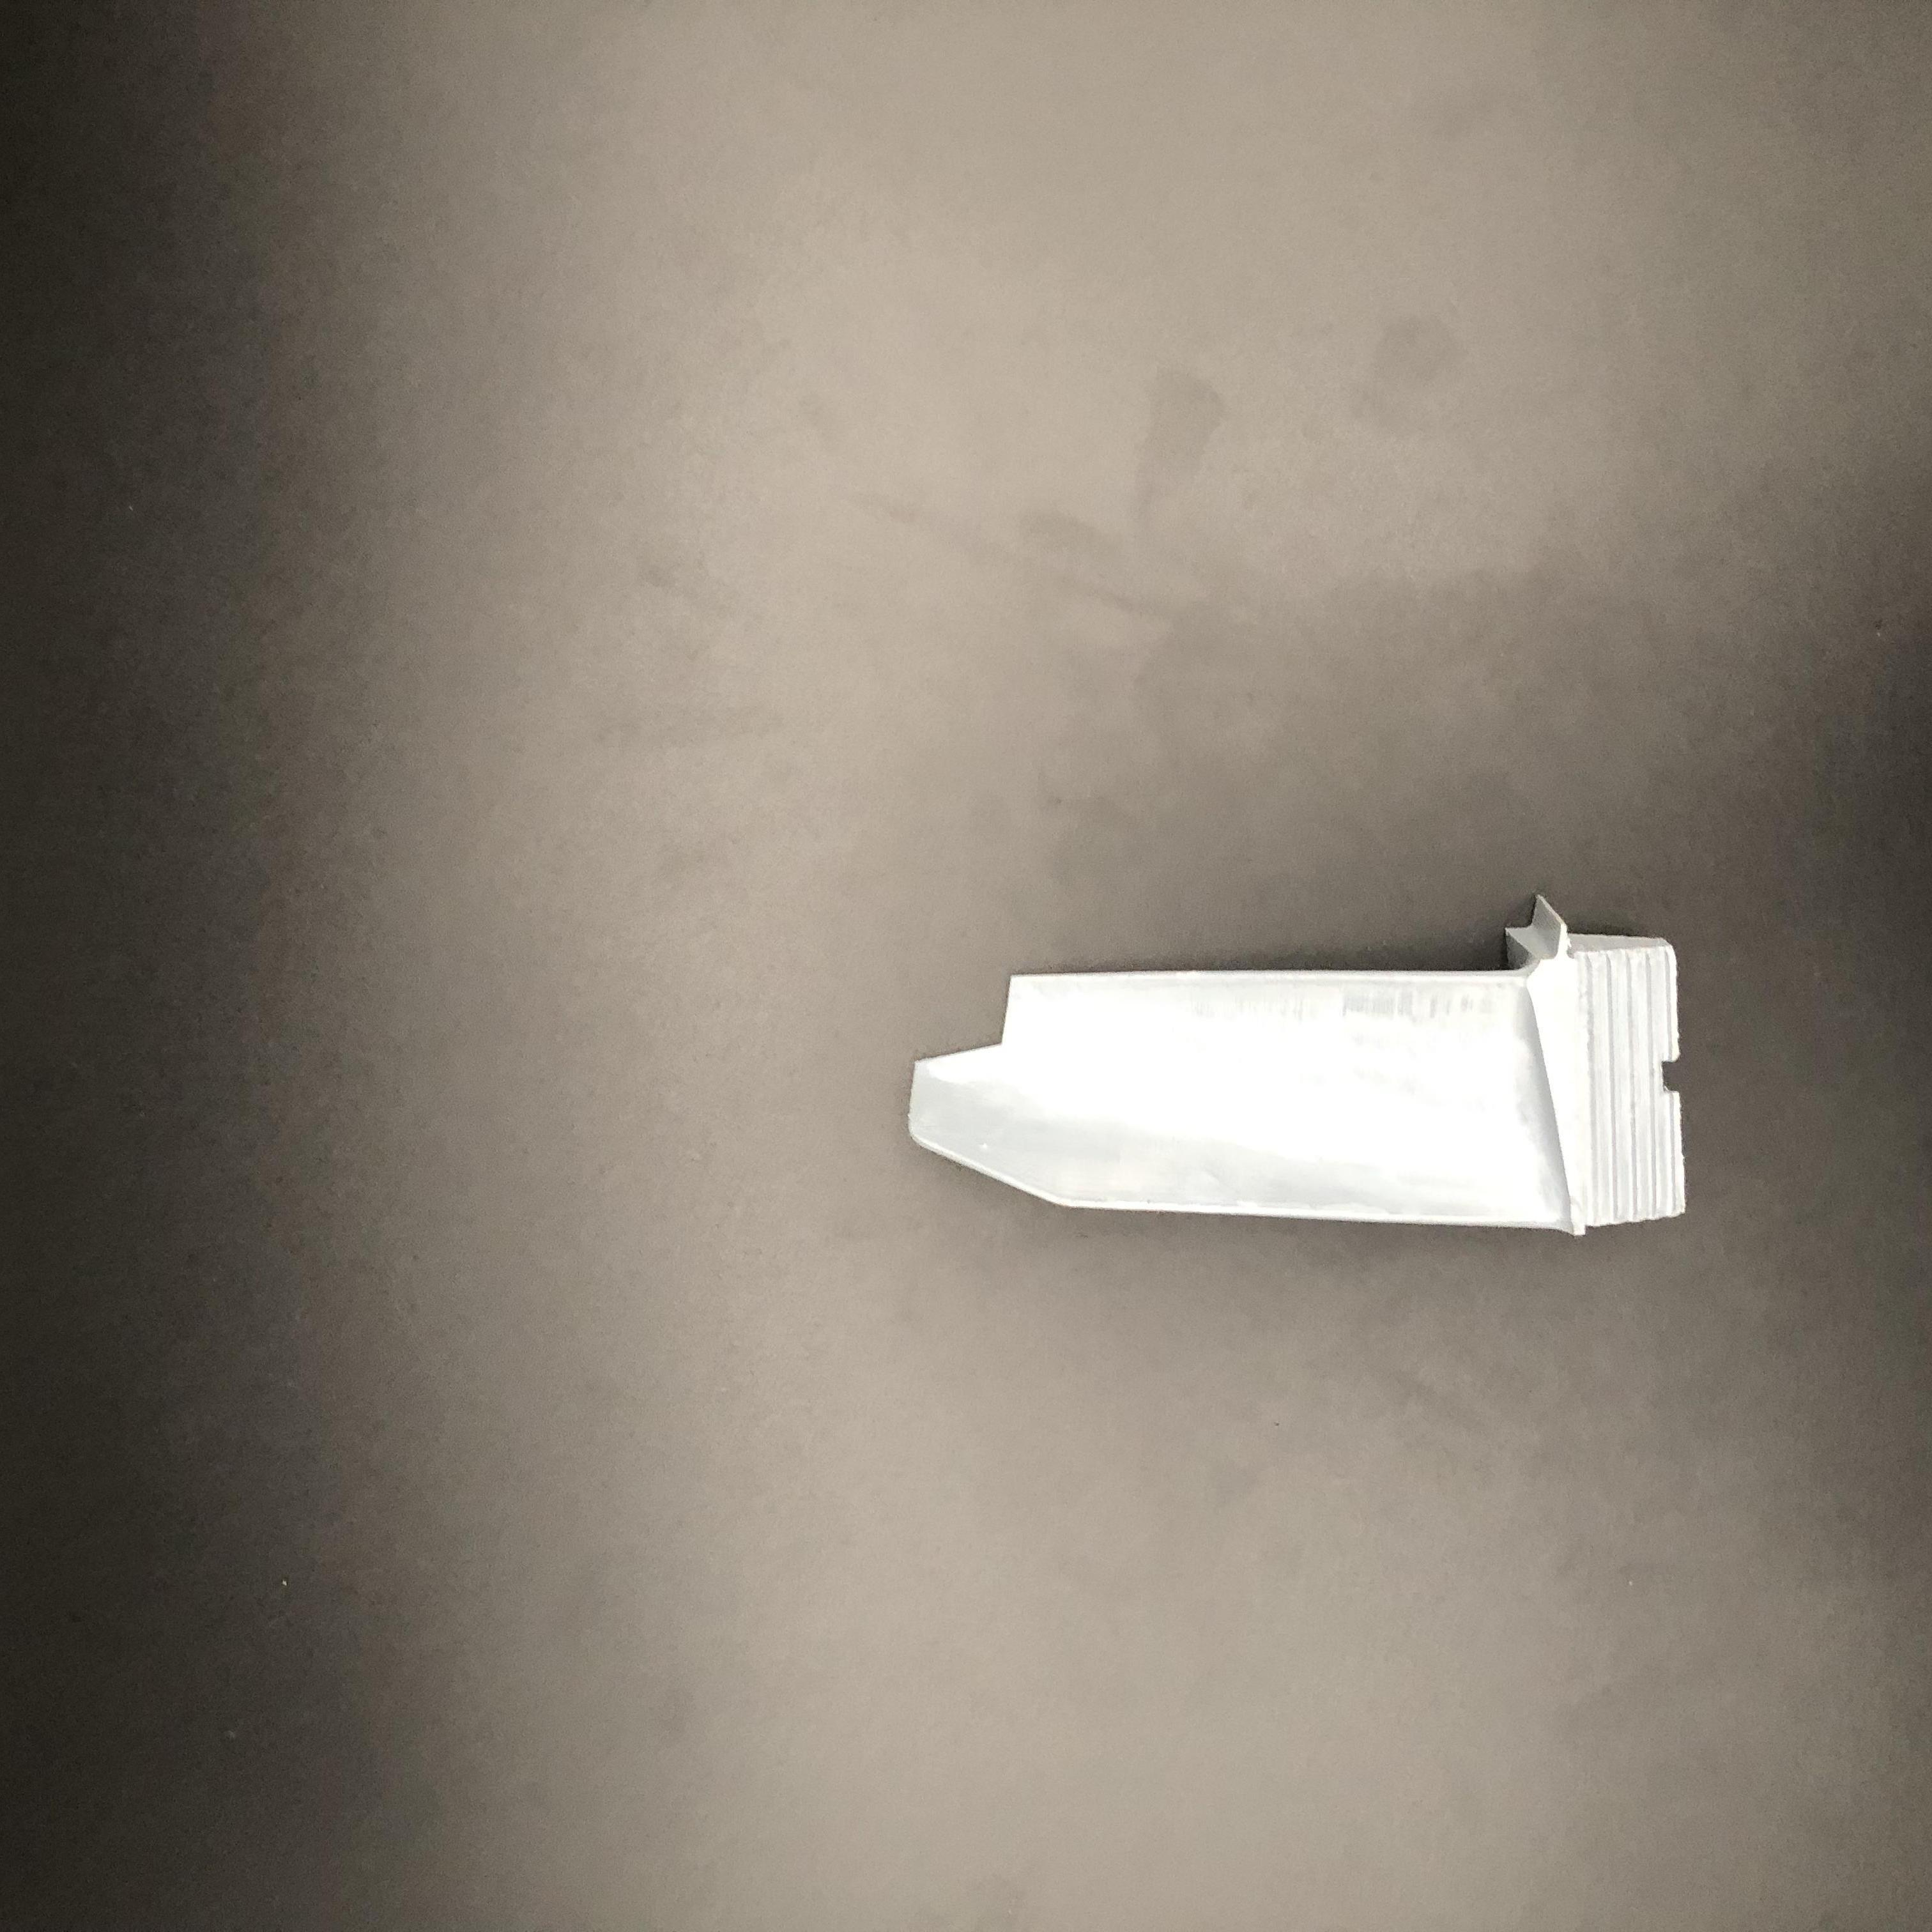fracture: (899, 975, 1053, 1086)
